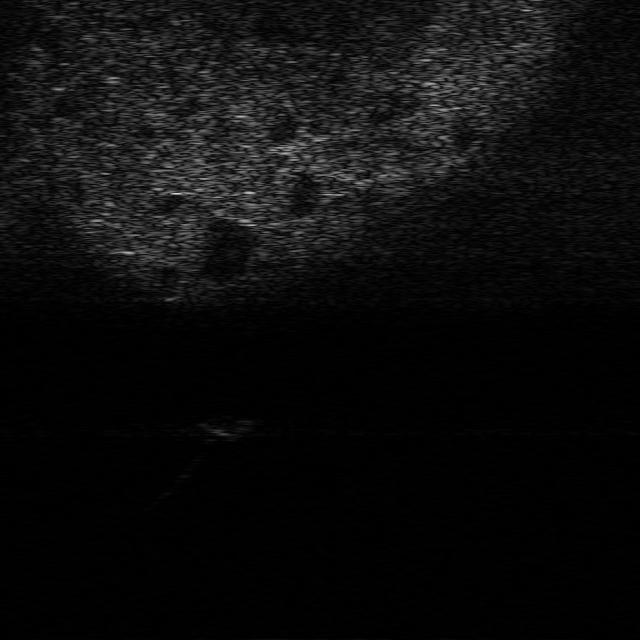cube: (196, 418, 258, 442)
